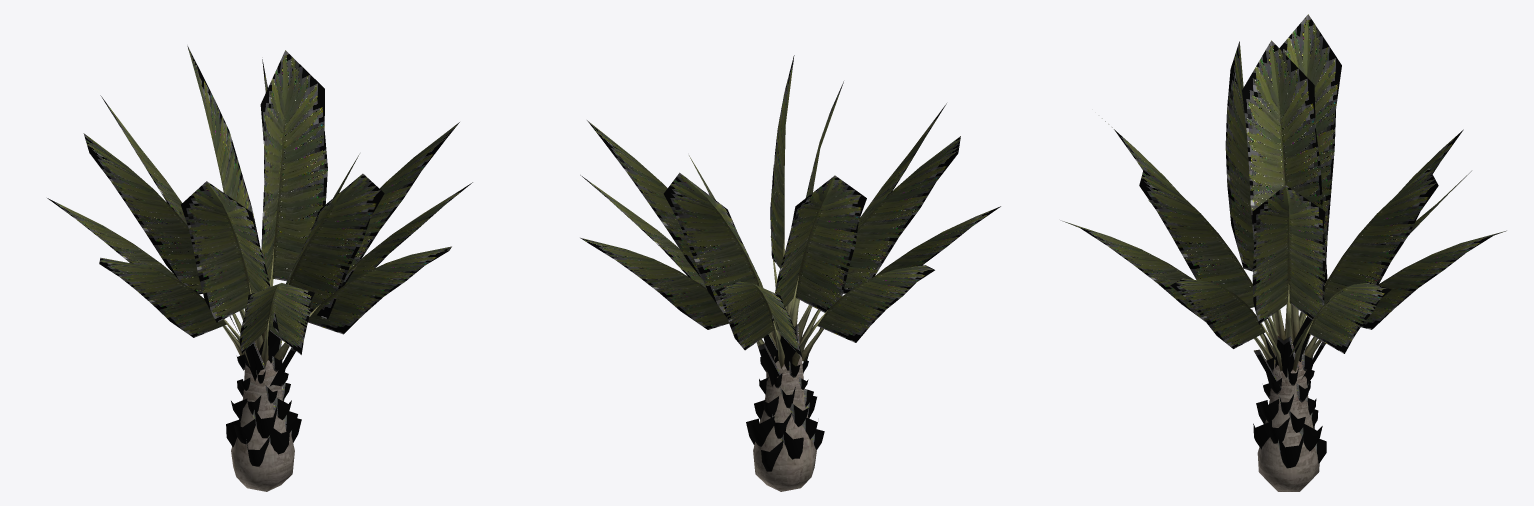
Rendered from palm_tree_tropical_short_c_entity.glb.
The picture shows the model from 3 angles, left to right: view 1: azimuth 30°, elevation 25°; view 2: azimuth 150°, elevation 25°; view 3: azimuth 270°, elevation 25°; orthographic projection. The views are drawn at different scales.
Parts seen in each view (by area): view 1: palm_tree_short_c_LOD0; view 2: palm_tree_short_c_LOD0; view 3: palm_tree_short_c_LOD0.
Part boxes in pixels (x1,y1,x2,y2): palm_tree_short_c_LOD0: (47,45,472,491); palm_tree_short_c_LOD0: (580,55,1000,491); palm_tree_short_c_LOD0: (1060,14,1506,491).
Size of the model in its own units: 5.04 by 5.43 by 5.04.
Materials: 1 (1 with a texture image).
